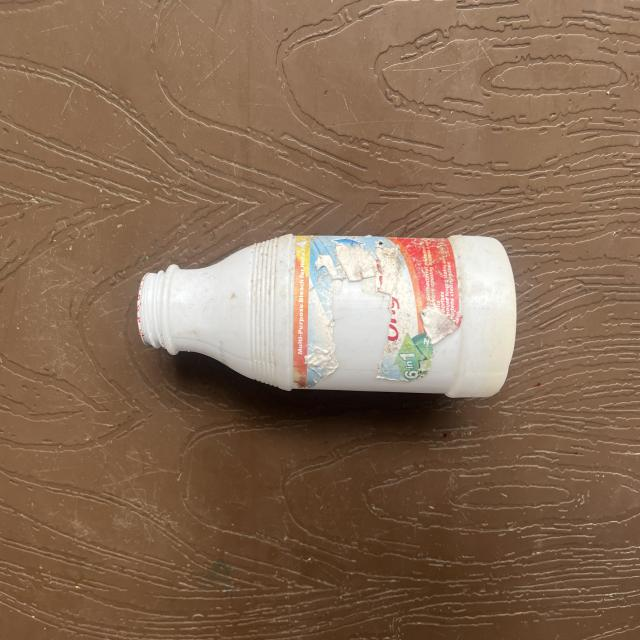REJECT: (144, 227, 480, 405)
